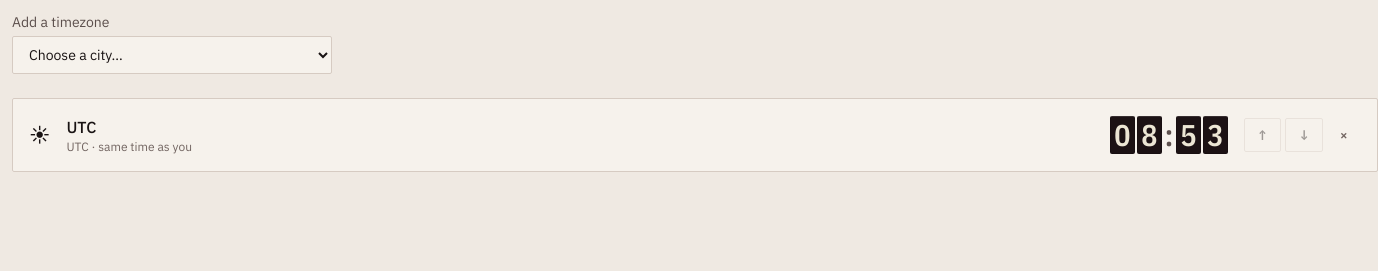
Test: WorldClockView › adds a zone from the curated picker
The image size is (1378, 271).
Select "New York" in the dropdown labelled "Add a timezone" at (172, 55), box [12, 36, 332, 74]
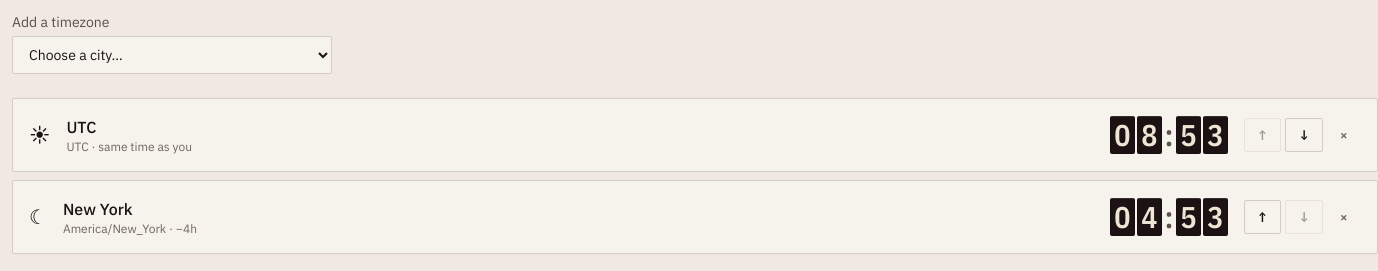
Now the number of list items is 2, box [12, 98, 1377, 172]; [12, 180, 1377, 254]
Now the text "New York" is shown, box [63, 199, 133, 219]
